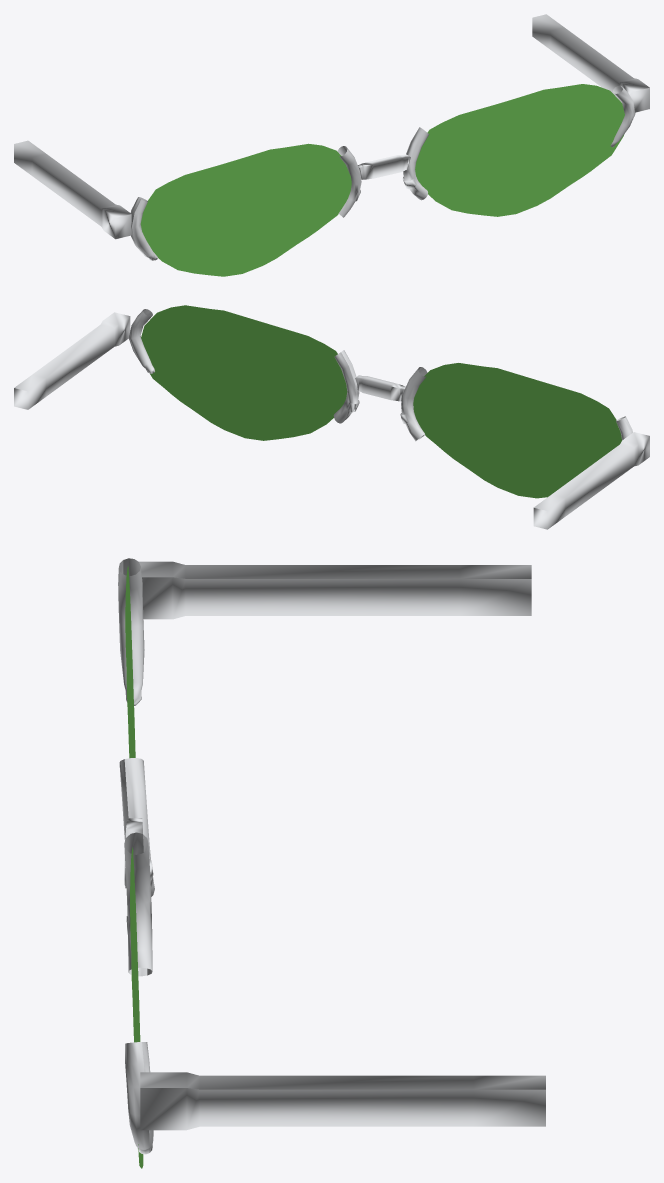
The model's file is imp_tinted_glasses.glb.
The picture shows the model from 3 angles, top to bottom: view 1: azimuth 30°, elevation 25°; view 2: azimuth 150°, elevation 25°; view 3: azimuth 270°, elevation 25°; orthographic projection. The views are drawn at different scales.
Visible parts, largest first — view 1: imp_tinted_glasses; view 2: imp_tinted_glasses; view 3: imp_tinted_glasses.
Boxes of the visible parts, left/top/right/bottom form: imp_tinted_glasses: left=14, top=14, right=649, bottom=276; imp_tinted_glasses: left=14, top=305, right=649, bottom=529; imp_tinted_glasses: left=118, top=558, right=545, bottom=1168.
Bounding box in the file's own units: 0.625 × 0.1431 × 0.2176.
